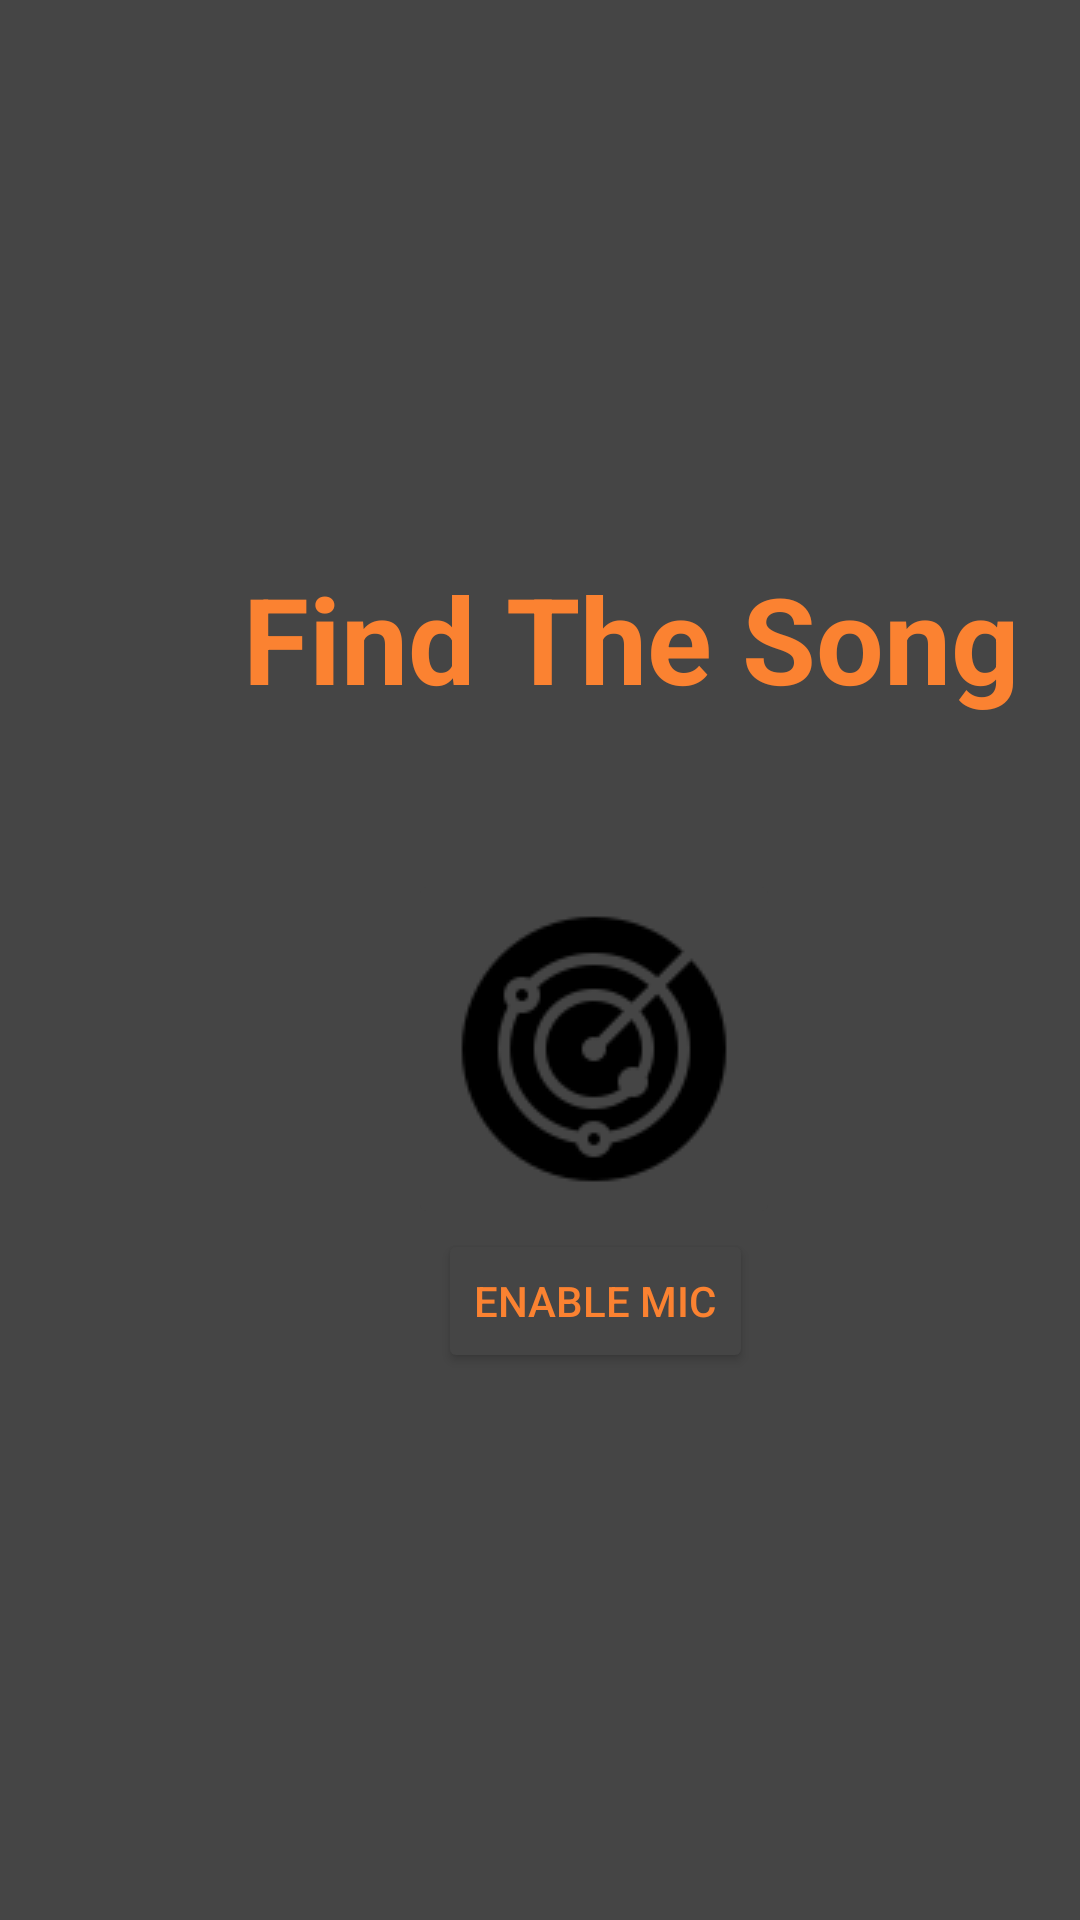

Icons on this 1080px x 1920px Android screen, each with its box as (x1, y1, x2, y2):
radar: (462, 917, 726, 1181)
